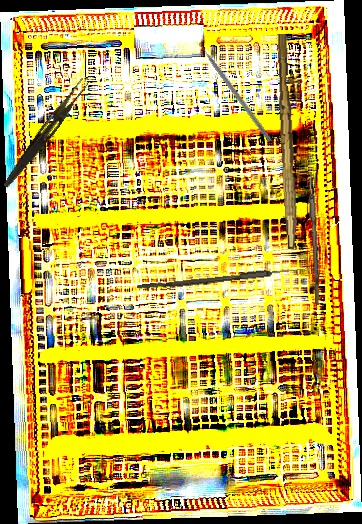Chopper: (194, 34, 278, 143)
Dressing Forceps: (1, 74, 90, 193)
Scalpel Handle: (272, 33, 303, 250)
Surgical Spoon: (137, 263, 318, 293), (305, 157, 323, 306)
